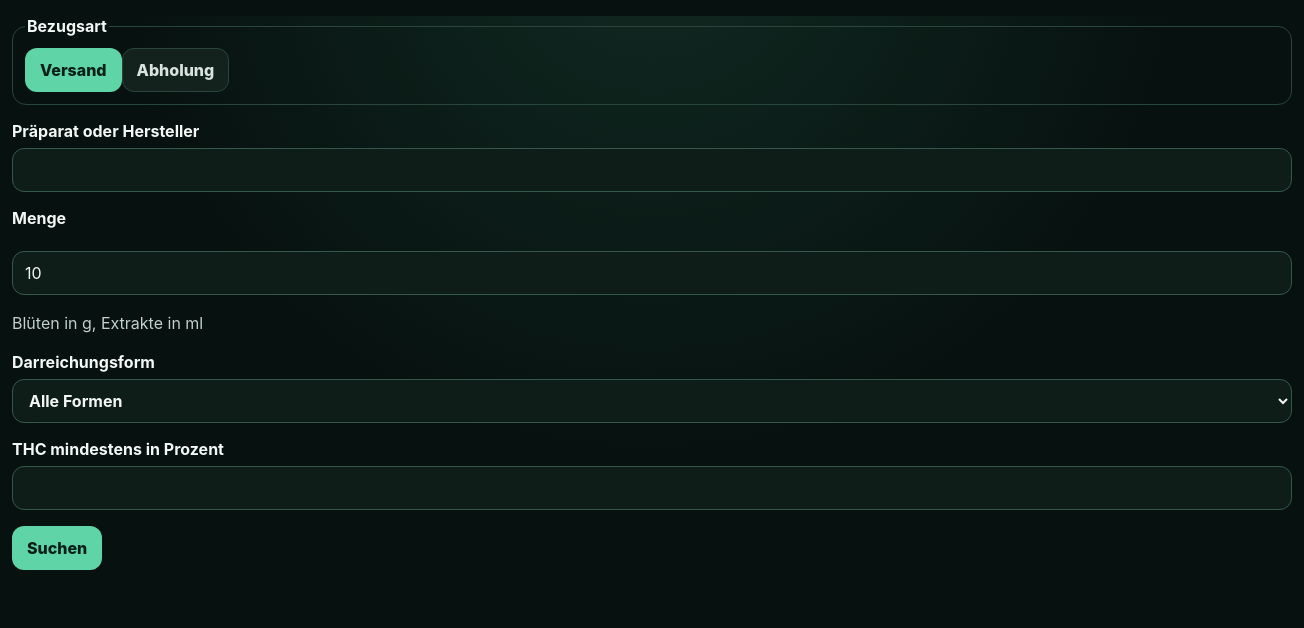
Test case: states that pickup locations are synthetic and not postcode-resolved
Click the button "Abholung".
click(175, 70)  # box x1=122 y1=48 x2=229 y2=92
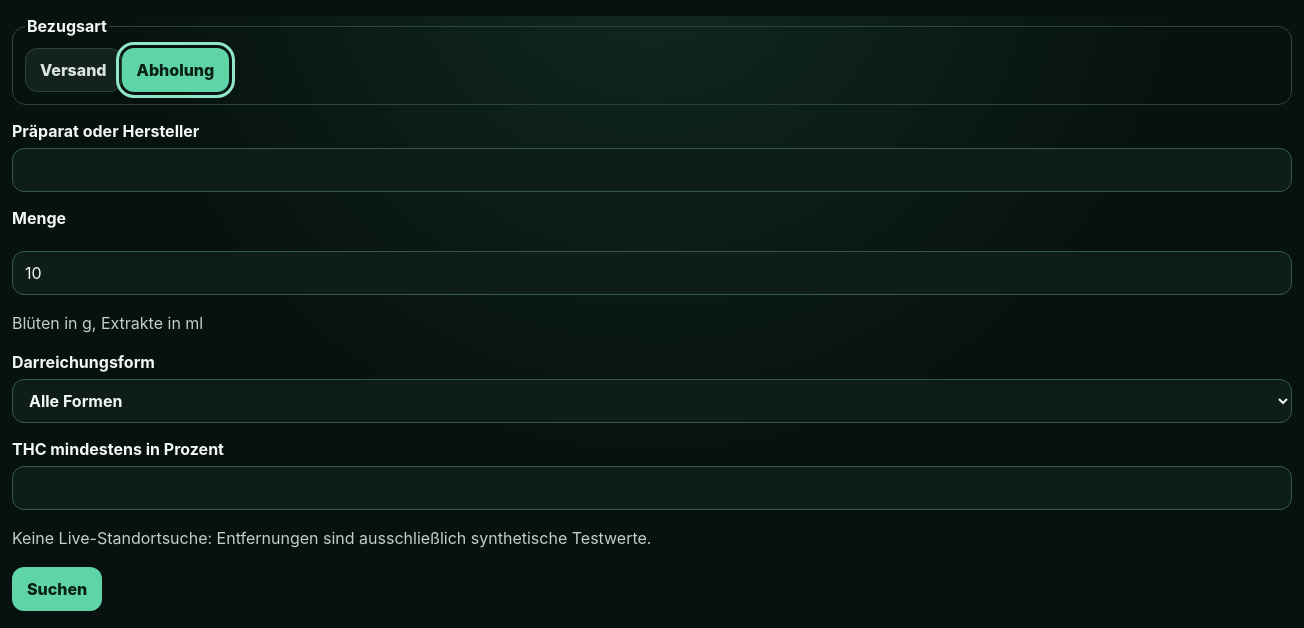
expect the text "Keine Live-Standortsuche" is shown: met, box x1=12 y1=528 x2=652 y2=548
